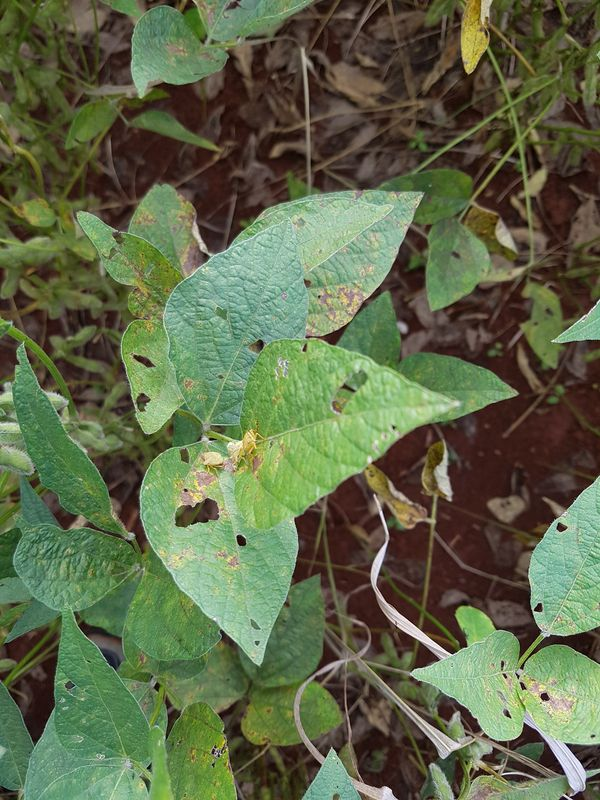Euschistus_heros_ninfa: (241, 426, 269, 459), (196, 449, 227, 475)
